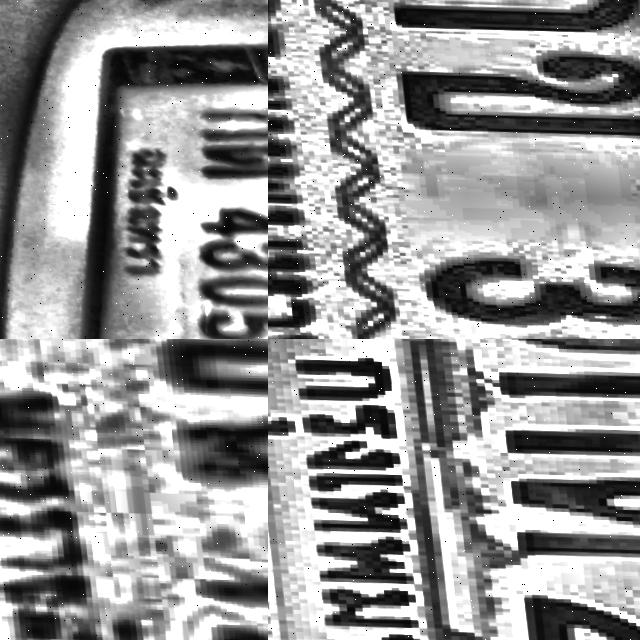license-plate: (268, 0, 640, 339), (268, 339, 640, 640), (0, 339, 268, 640), (87, 80, 268, 339)
